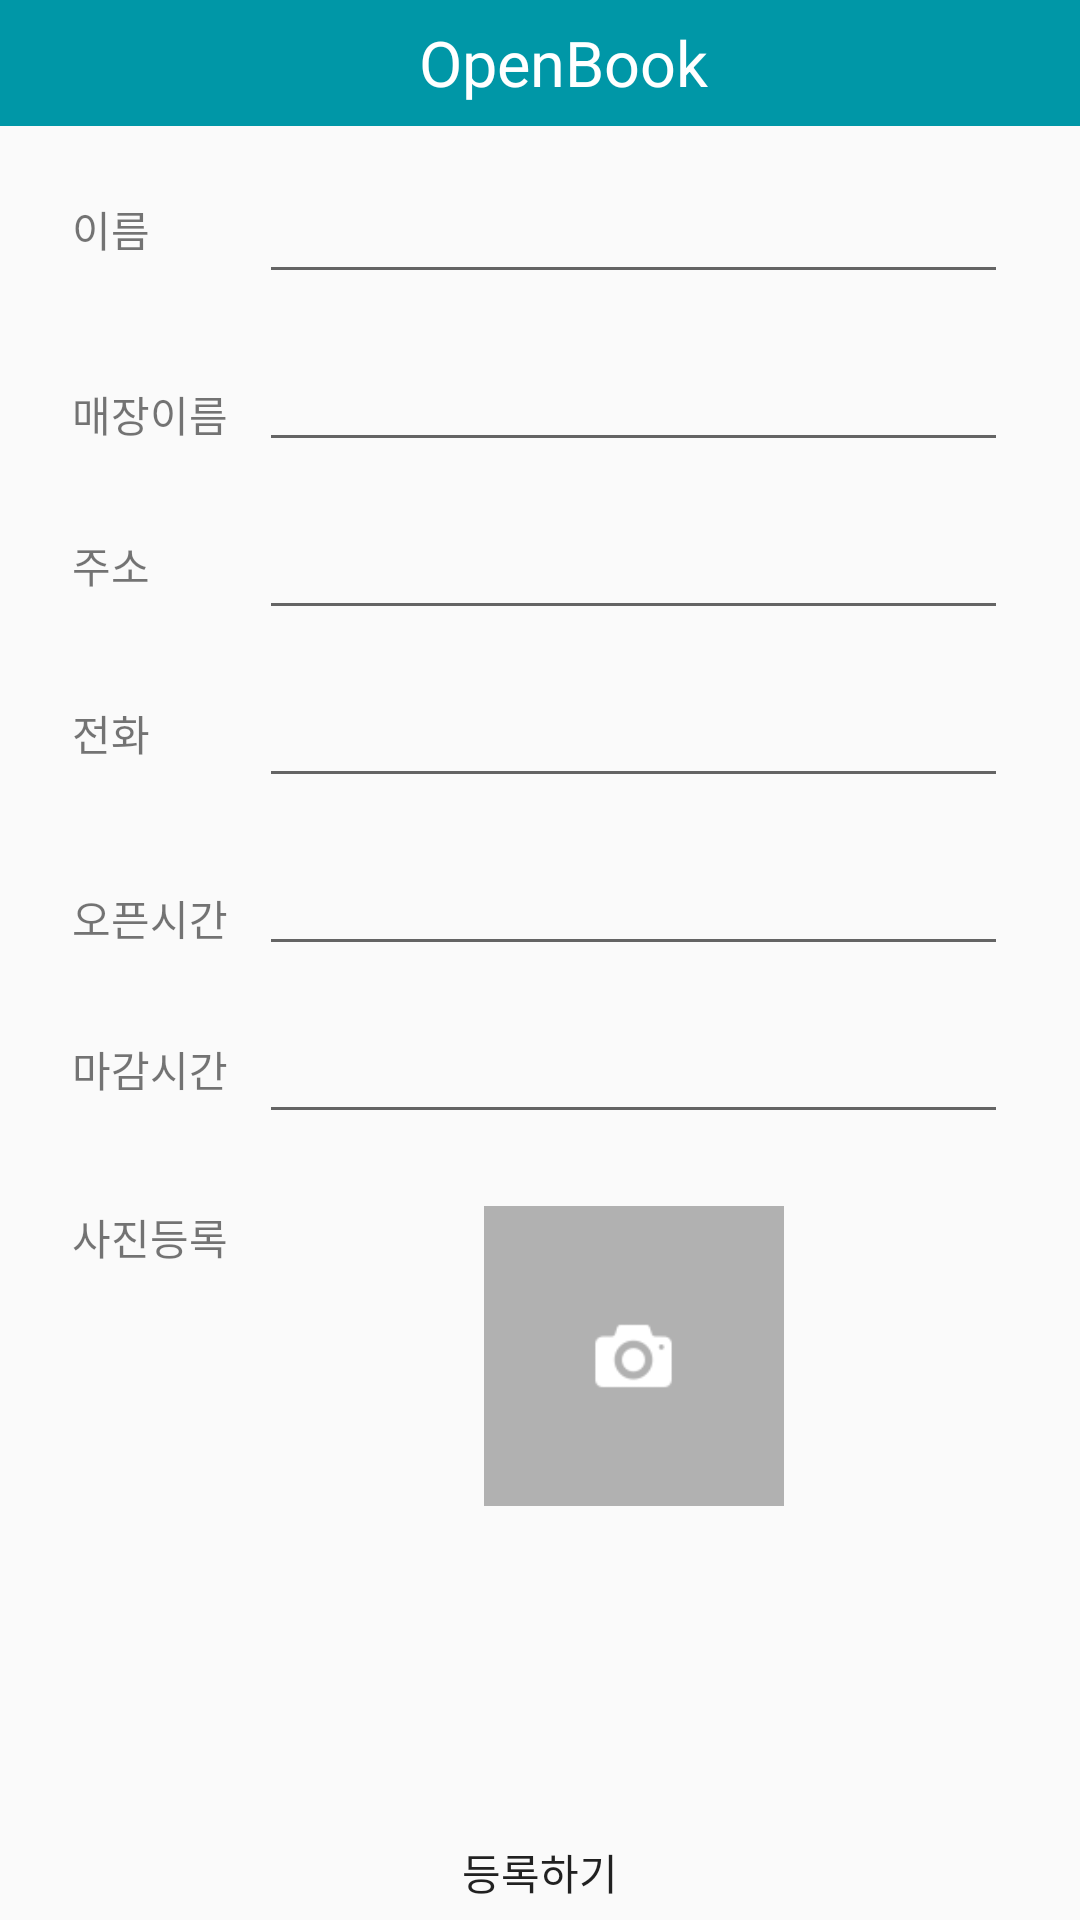

Icons on this 1080px×1920px Android screen, each with its box as [x1=x1, y1=y1, x2=x2, y2=y2]:
photo: [x1=484, y1=1206, x2=784, y2=1506]
